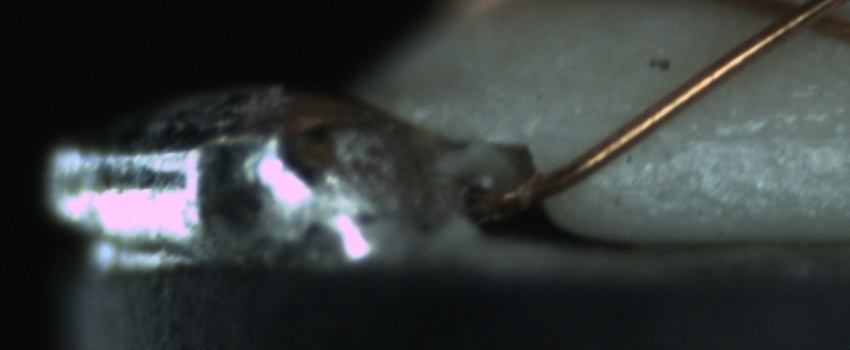CL: (756, 0, 842, 43)
DL: (675, 99, 850, 165)
